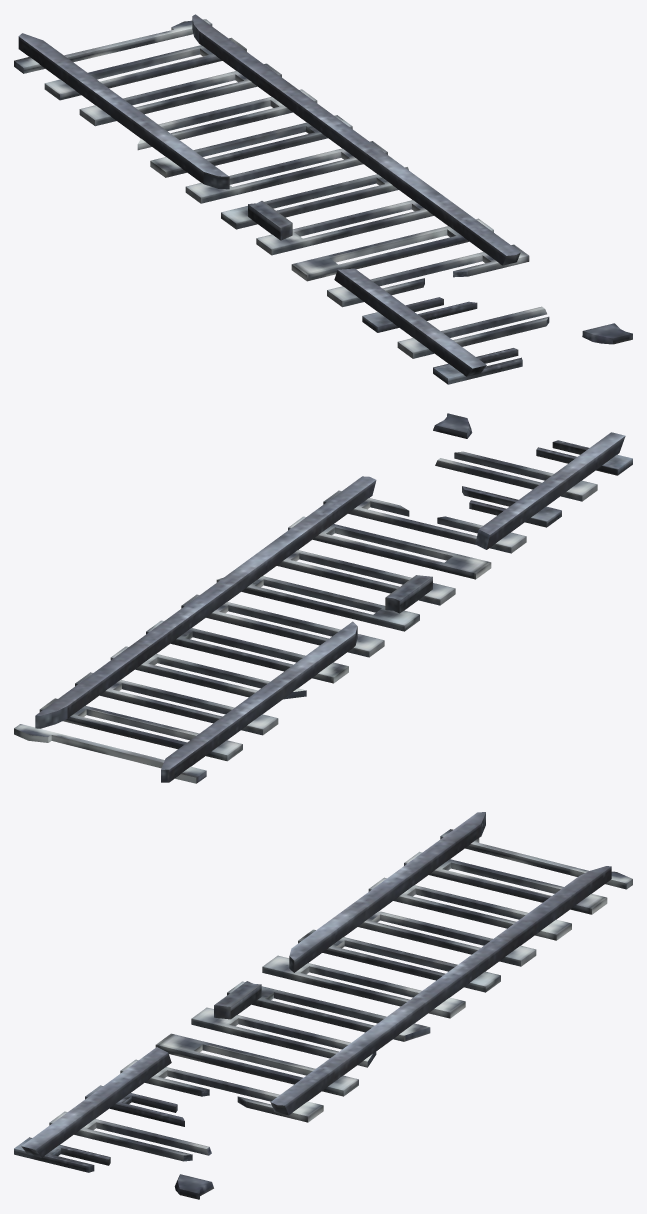
The model's file is yw_xuesebingfeng_tiedao01.FBX.
3 renders of one model, top to bottom at view 1: azimuth 30°, elevation 25°; view 2: azimuth 150°, elevation 25°; view 3: azimuth 330°, elevation 25°, orthographic.
Parts seen in each view (by area): view 1: yw_xuesebingfeng_tiedao01; view 2: yw_xuesebingfeng_tiedao01; view 3: yw_xuesebingfeng_tiedao01.
Part boxes in pixels (left/top/right/bottom): yw_xuesebingfeng_tiedao01: left=14, top=14, right=632, bottom=384; yw_xuesebingfeng_tiedao01: left=14, top=413, right=632, bottom=783; yw_xuesebingfeng_tiedao01: left=14, top=812, right=632, bottom=1199.
Size of the model in its own units: 310 by 29.53 by 1310.
